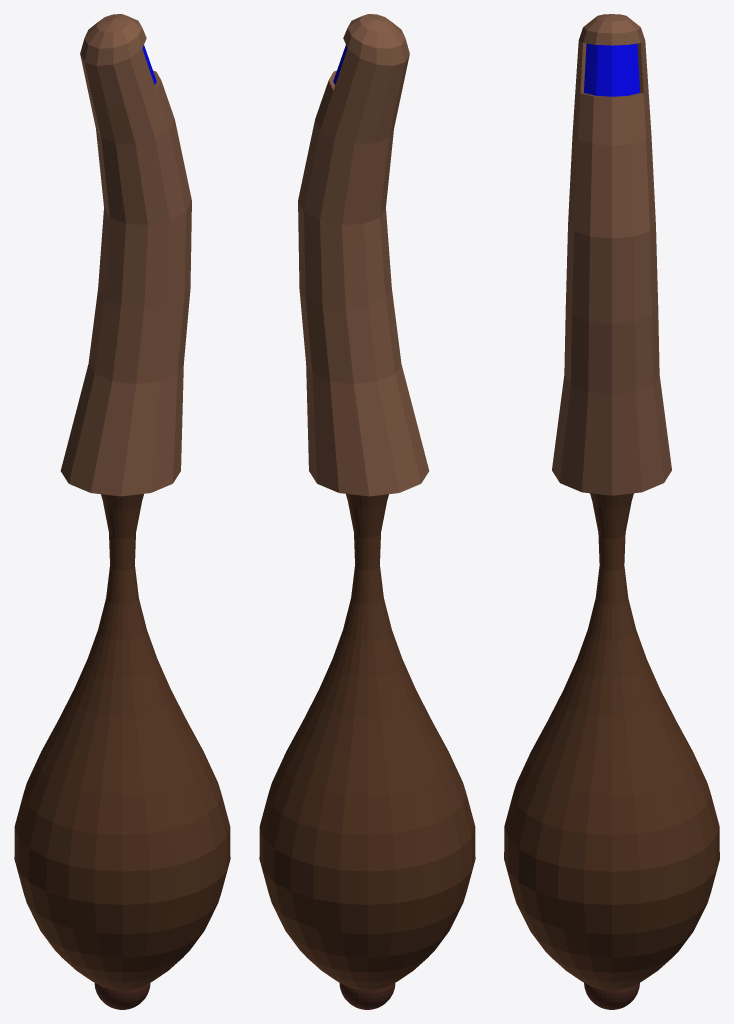
Rendered from Wand 943.glb.
3 views of the same model, side by side, from view 1: azimuth 30°, elevation 25°; view 2: azimuth 150°, elevation 25°; view 3: azimuth 270°, elevation 25° (orthographic).
Parts seen in each view (by area): view 1: GeneratedWand; view 2: GeneratedWand; view 3: GeneratedWand.
Boxes of the visible parts, box(x1,y1,x2,y2) form: GeneratedWand: box(14, 14, 230, 1009); GeneratedWand: box(259, 14, 475, 1009); GeneratedWand: box(504, 14, 719, 1009).
Bounding box in the file's own units: 0.1026 × 0.5186 × 0.1026.
